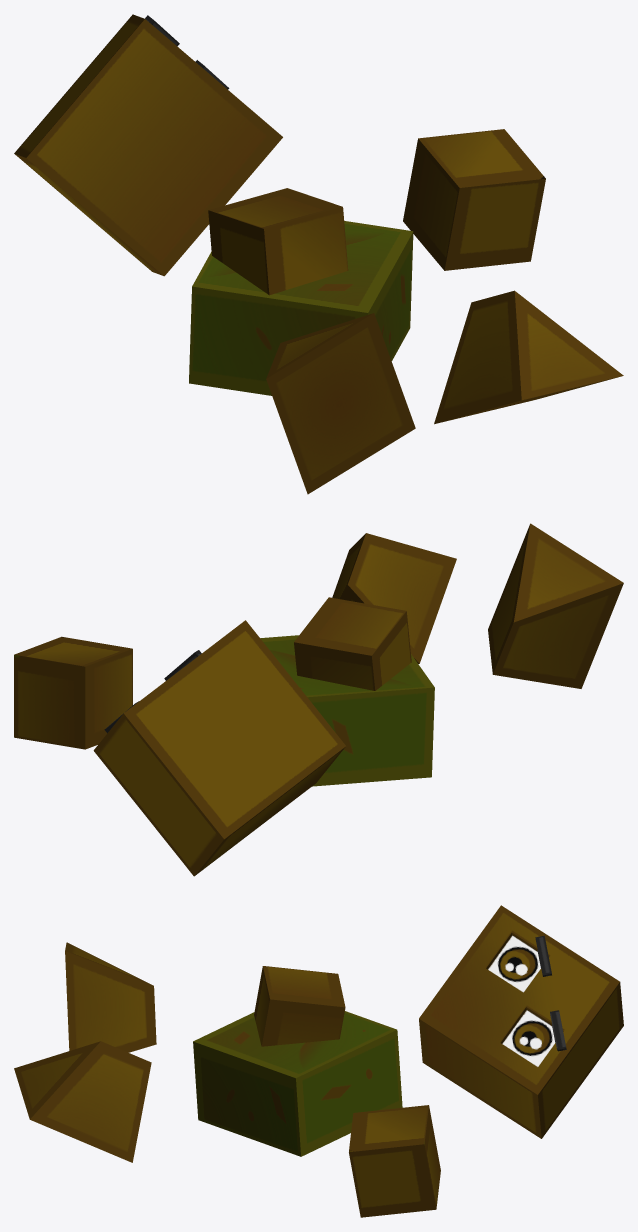
Rendered from Coadjuvantes01.obj.
3 renders of one model, top to bottom at view 1: azimuth 30°, elevation 25°; view 2: azimuth 150°, elevation 25°; view 3: azimuth 270°, elevation 25°, orthographic. The views are drawn at different scales.
Visible parts, largest first — view 1: Corpo_Cube.006; view 2: Corpo_Cube.006; view 3: Corpo_Cube.006.
Boxes of the visible parts, bbox=[...] form: Corpo_Cube.006: bbox=[14, 14, 623, 494]; Corpo_Cube.006: bbox=[14, 523, 623, 876]; Corpo_Cube.006: bbox=[14, 905, 623, 1217].
Size of the model in its own units: 2.74 by 1.58 by 3.94.
